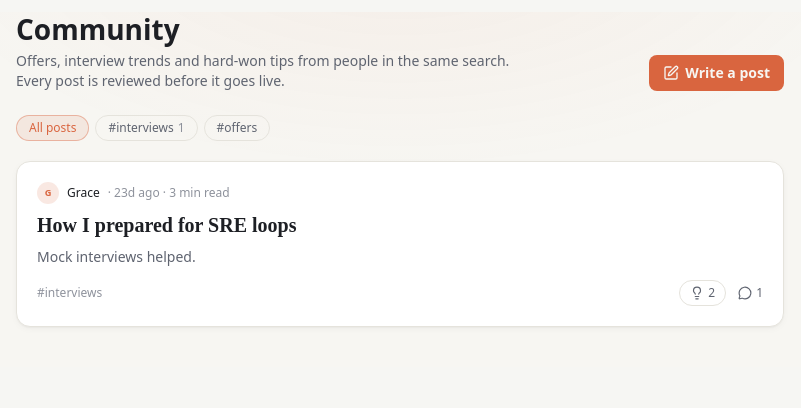
Community › lists posts and filters by tag
Expected: the heading "How I prepared for SRE loops" is shown, [37,214,296,236]
Expected: the text "Mock interviews helped." is shown, [37,246,196,266]
Click the button "#offers": (237, 128) [204,115,270,141]
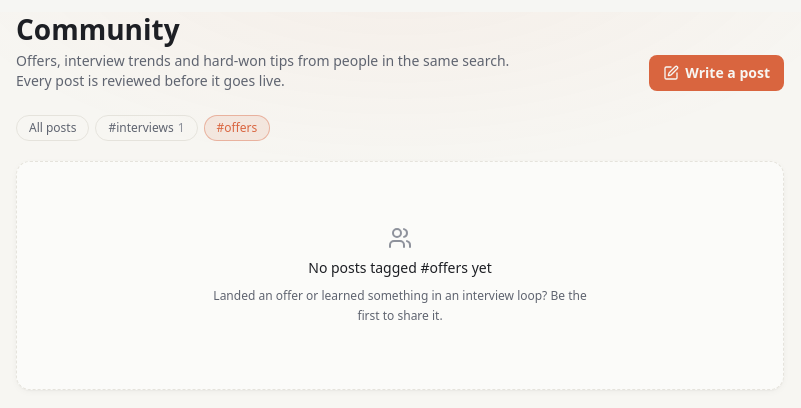
Now the text "No posts tagged #offers yet" is shown, box [308,258,492,277]
